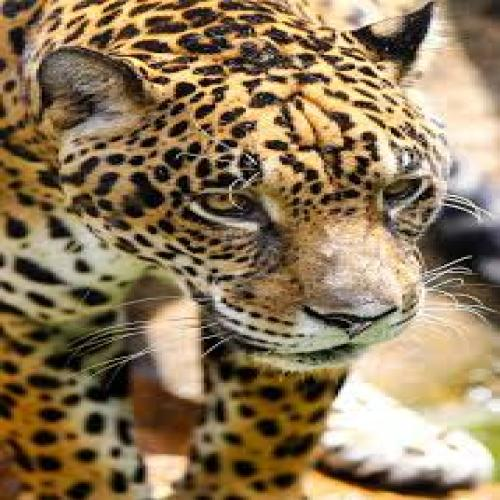jaguar_not-endangered: (0, 0, 464, 495)
